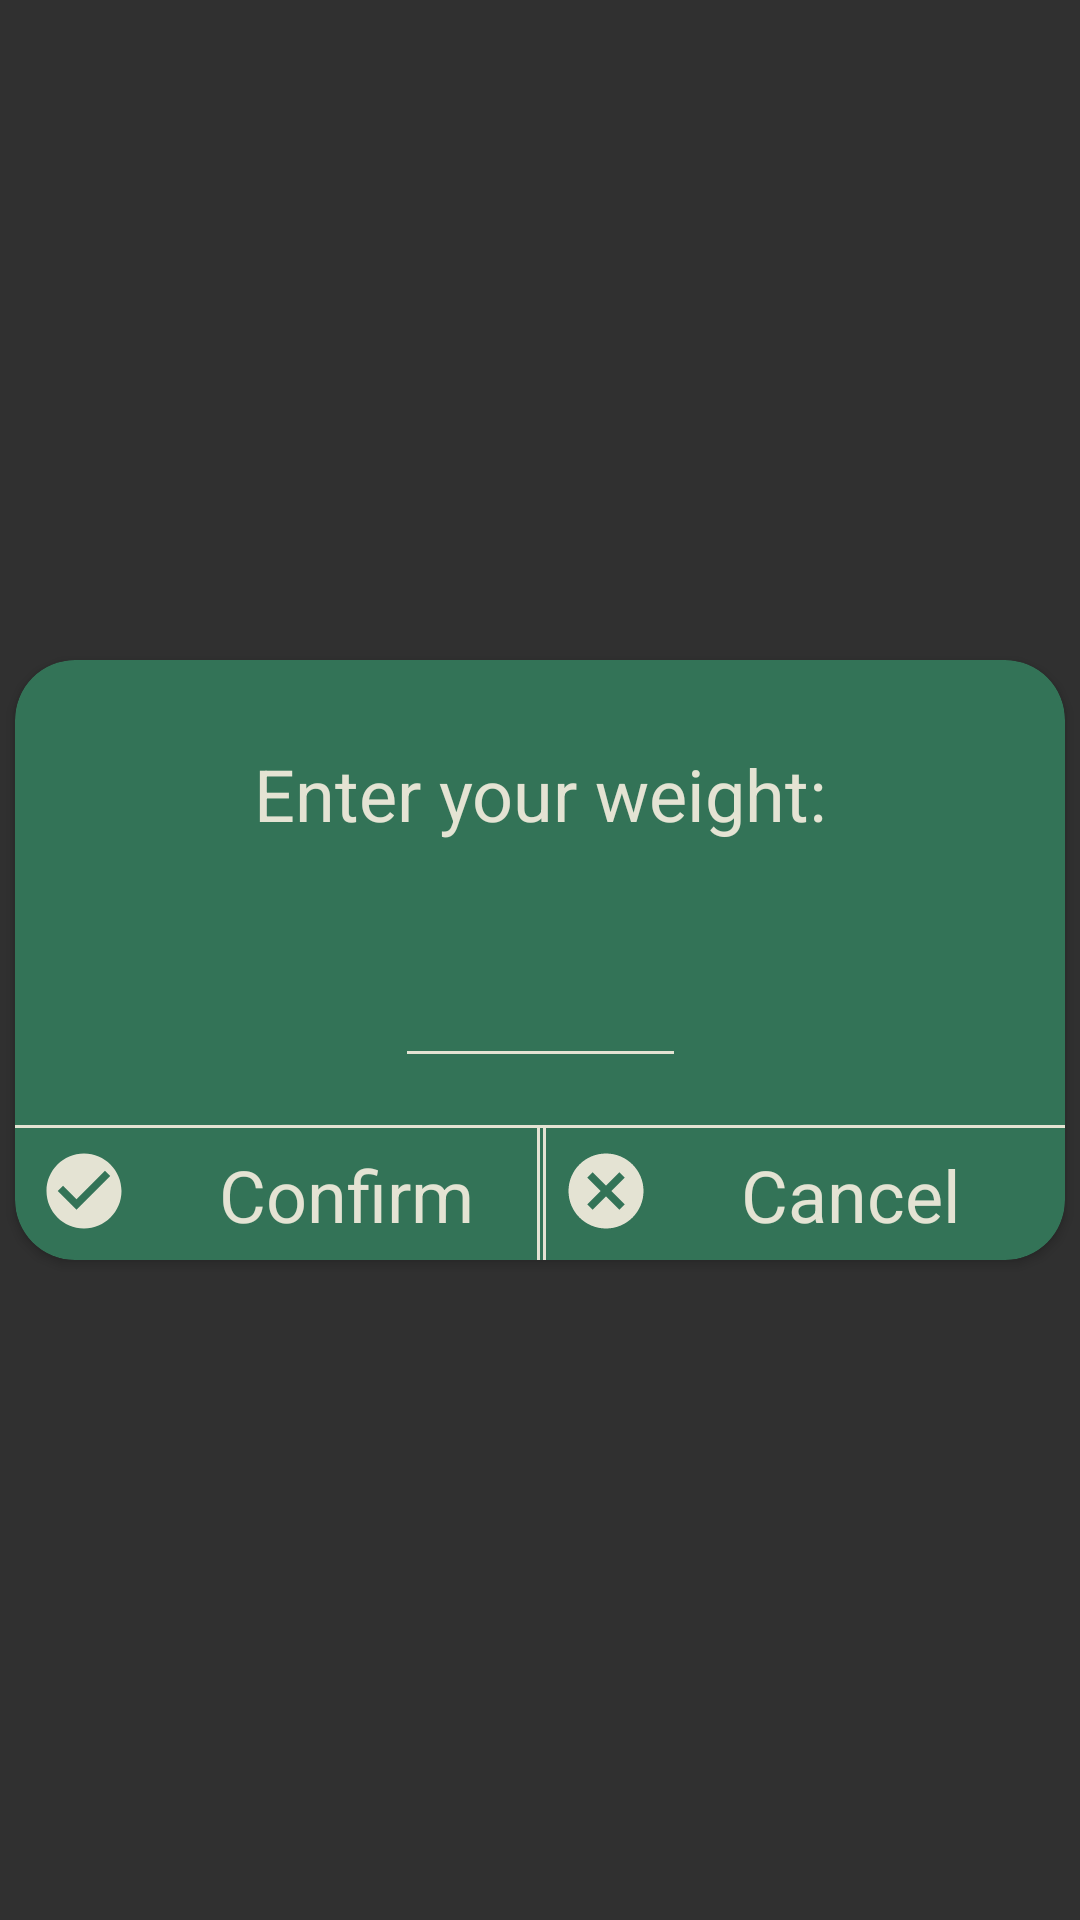

Where icons sit on this 1080*1920 app screen, as bbox=[x1, y1, x2, y2]:
checkmark: bbox=[46, 1153, 122, 1229]
